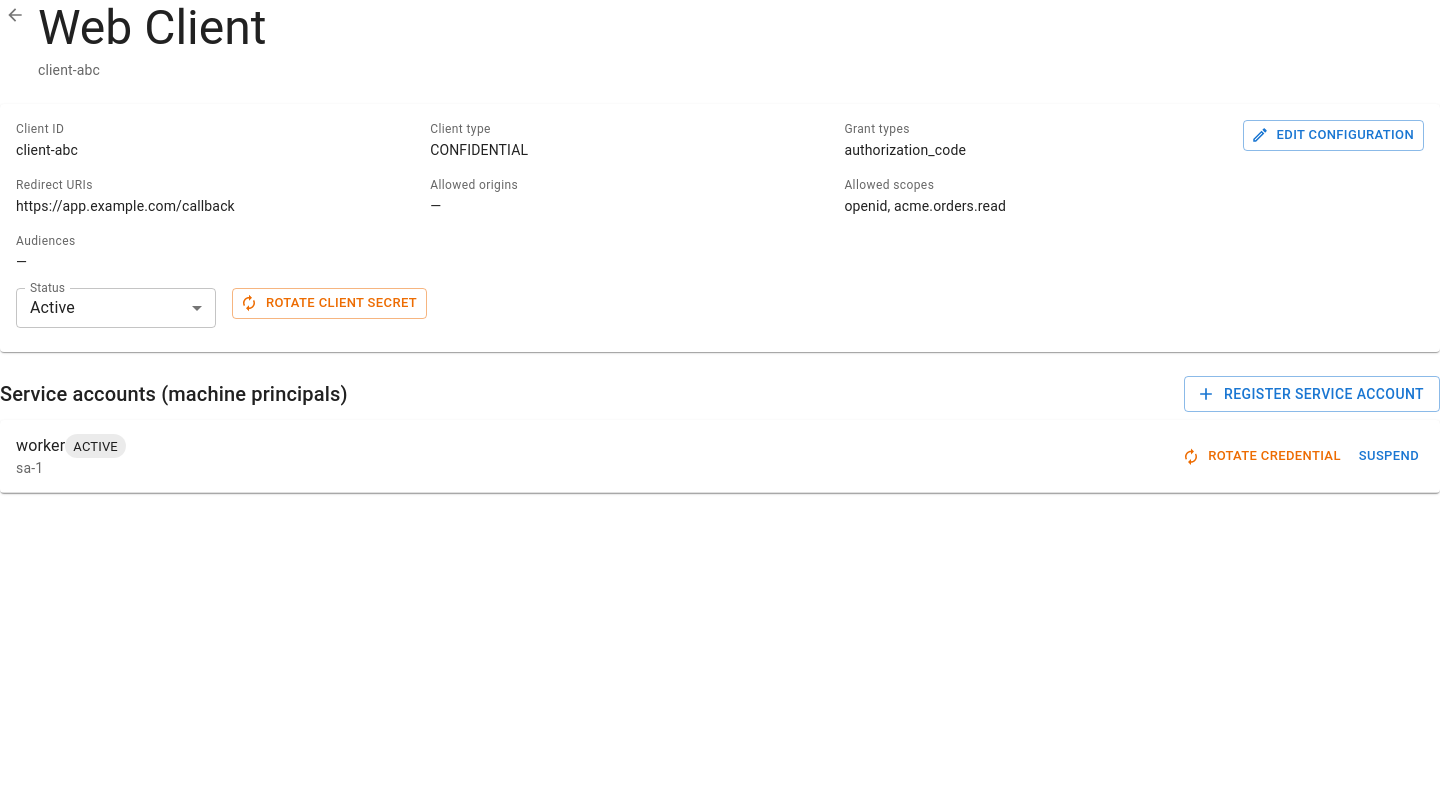
PlatformApplicationDetailPage — credential rotation › rotating a service account's credential also requires confirmation and shows the new value exactly once
Expected: the heading "Web Client" is shown, top-left (38, 0), bottom-right (266, 56)
Click the button "Rotate credential".
click(1262, 456)  # box top-left (1179, 441), bottom-right (1346, 472)
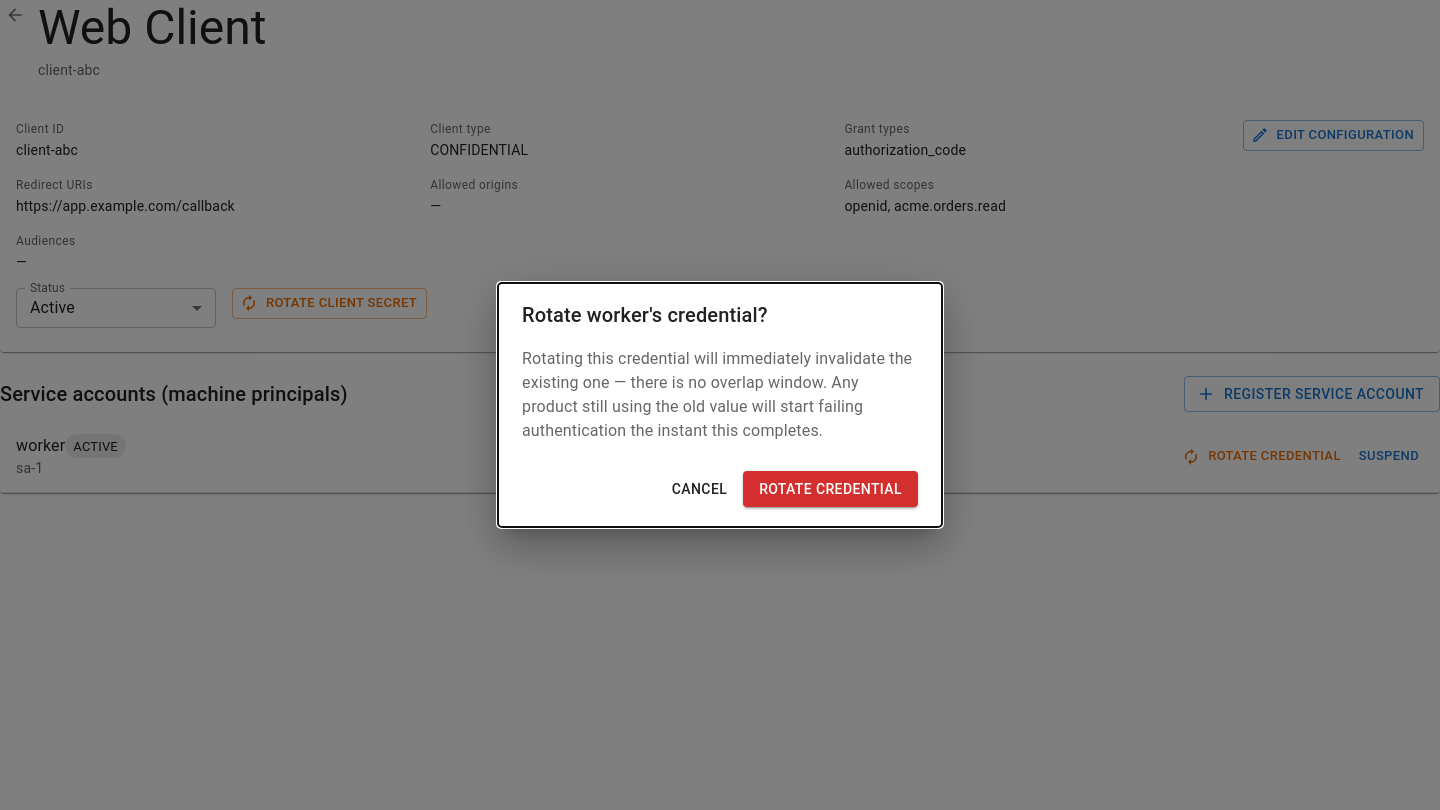
Expected: the text "immediately invalidate the existing one" is shown, top-left (522, 349), bottom-right (912, 440)
Click the button "Rotate credential".
click(831, 489)  # box top-left (743, 471), bottom-right (918, 507)
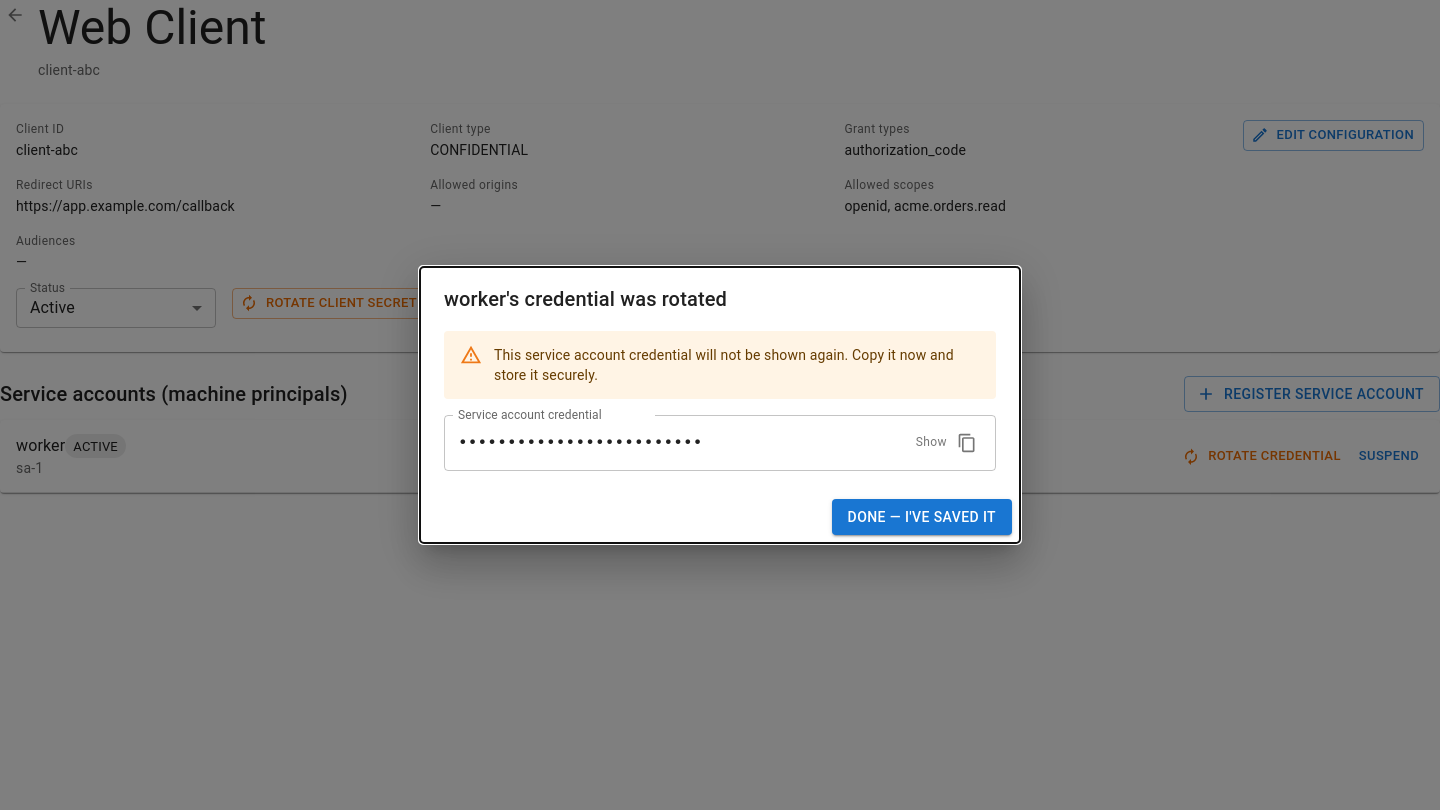
Expected: the heading "worker's credential was rotated" is shown, top-left (444, 287), bottom-right (727, 311)
